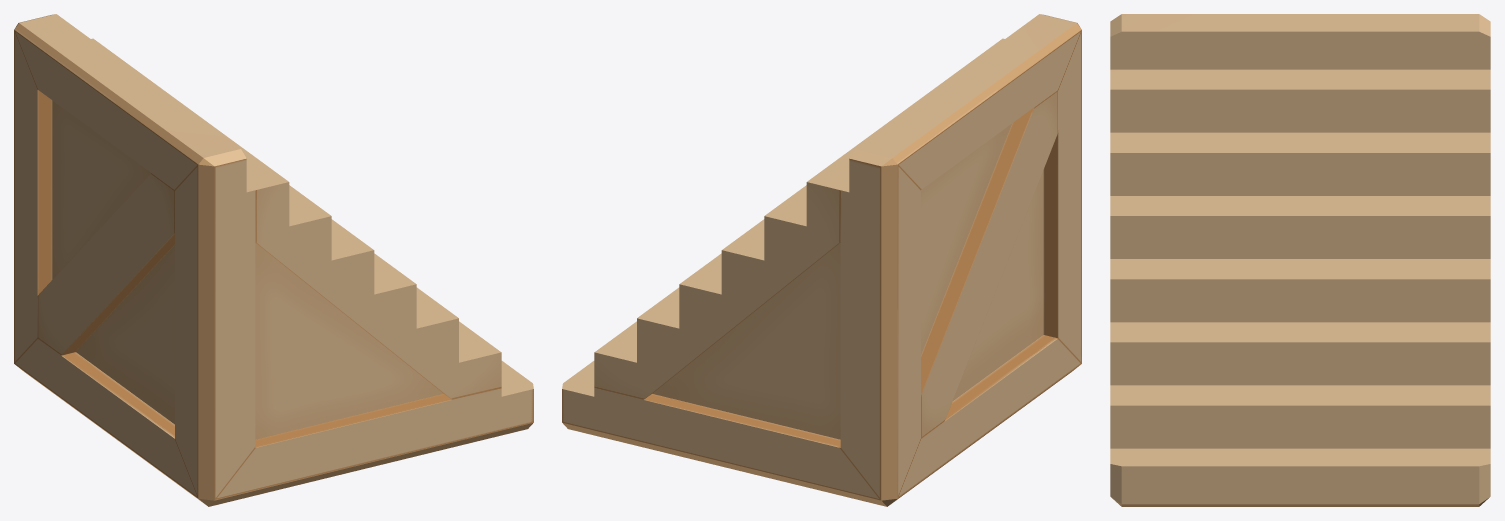
Rendered from StairF.fbx.
The picture shows the model from 3 angles, left to right: view 1: azimuth 30°, elevation 25°; view 2: azimuth 150°, elevation 25°; view 3: azimuth 270°, elevation 25°; orthographic projection. The views are drawn at different scales.
Visible parts, largest first — view 1: Stair; view 2: Stair; view 3: Stair.
Boxes of the visible parts, box(x1,y1,x2,y2) form: Stair: box(14, 14, 533, 506); Stair: box(562, 14, 1081, 506); Stair: box(1110, 14, 1490, 506).
Size of the model in its own units: 0.985 by 0.985 by 1.
